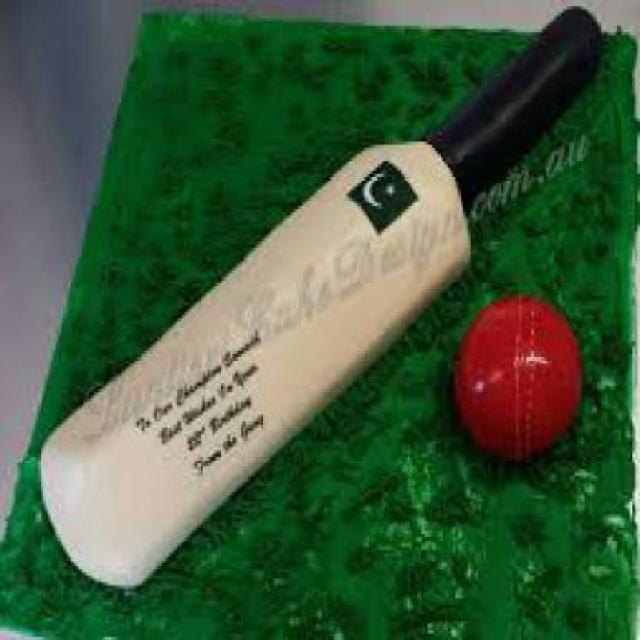ball: (449, 283, 588, 480)
